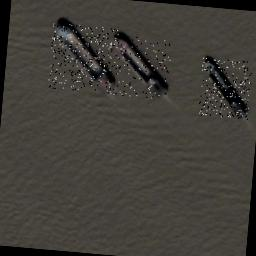boat: (47, 22, 119, 94), (106, 34, 172, 99), (198, 58, 252, 120)
